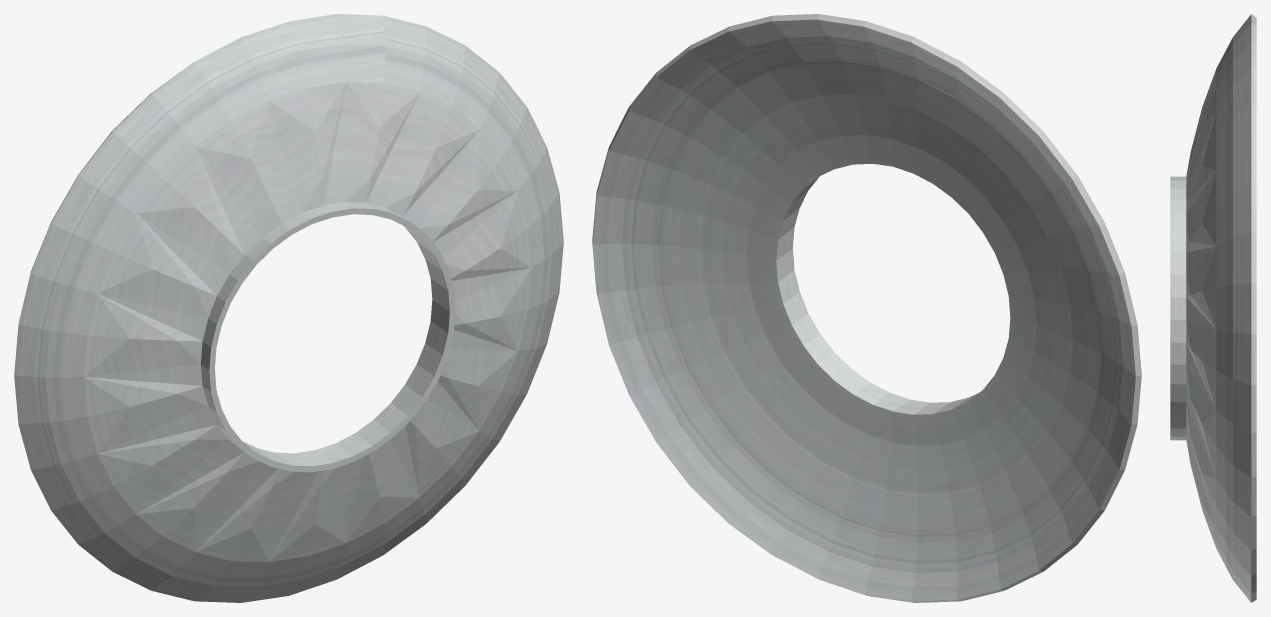
Rendered from fym001-geode.glb.
The picture shows the model from 3 angles, left to right: view 1: azimuth 30°, elevation 25°; view 2: azimuth 150°, elevation 25°; view 3: azimuth 270°, elevation 25°; orthographic projection. The views are drawn at different scales.
Parts seen in each view (by area): view 1: Node; view 2: Node; view 3: Node.
Part boxes in pixels (x1,y1,x2,y2): Node: (14, 14, 563, 602); Node: (592, 14, 1141, 602); Node: (1170, 14, 1256, 602).
Size of the model in its own units: 3.77 by 3.77 by 0.5495.
Materials: 1 (1 with a texture image).
